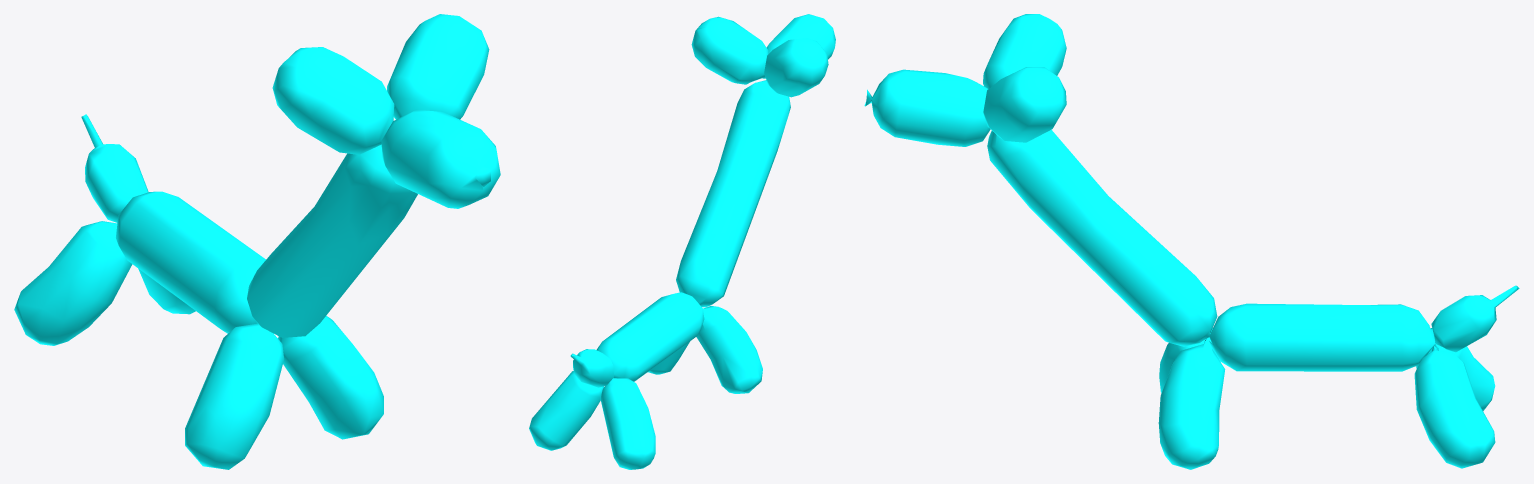
Rendered from 9f0d1e03-c082-4bcb-8545-589accf1adc9.glb.
3 views of the same model, side by side, from view 1: azimuth 30°, elevation 25°; view 2: azimuth 150°, elevation 25°; view 3: azimuth 270°, elevation 25° (orthographic). The views are drawn at different scales.
Parts seen in each view (by area): view 1: BalloonAnimalTallCyan; view 2: BalloonAnimalTallCyan; view 3: BalloonAnimalTallCyan.
Part boxes in pixels (x1=…): BalloonAnimalTallCyan: x1=14, y1=14, x2=500, y2=469; BalloonAnimalTallCyan: x1=529, y1=14, x2=835, y2=469; BalloonAnimalTallCyan: x1=864, y1=14, x2=1519, y2=469.
Size of what is drawn, in the model's own units: 0.2693 by 0.6135 by 0.9162.
1 material, 1 textured.
